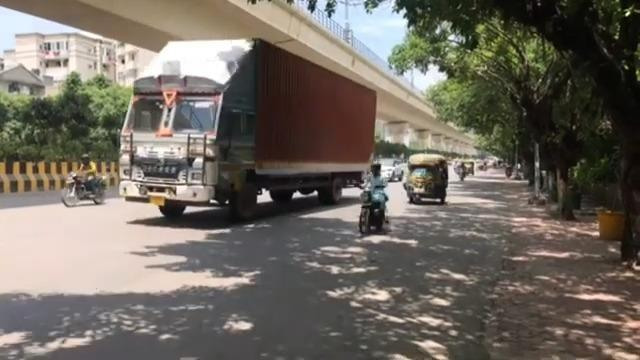Auto: (402, 152, 448, 204)
Bike: (357, 159, 395, 234), (60, 153, 108, 207)
Truck: (116, 36, 377, 219)
